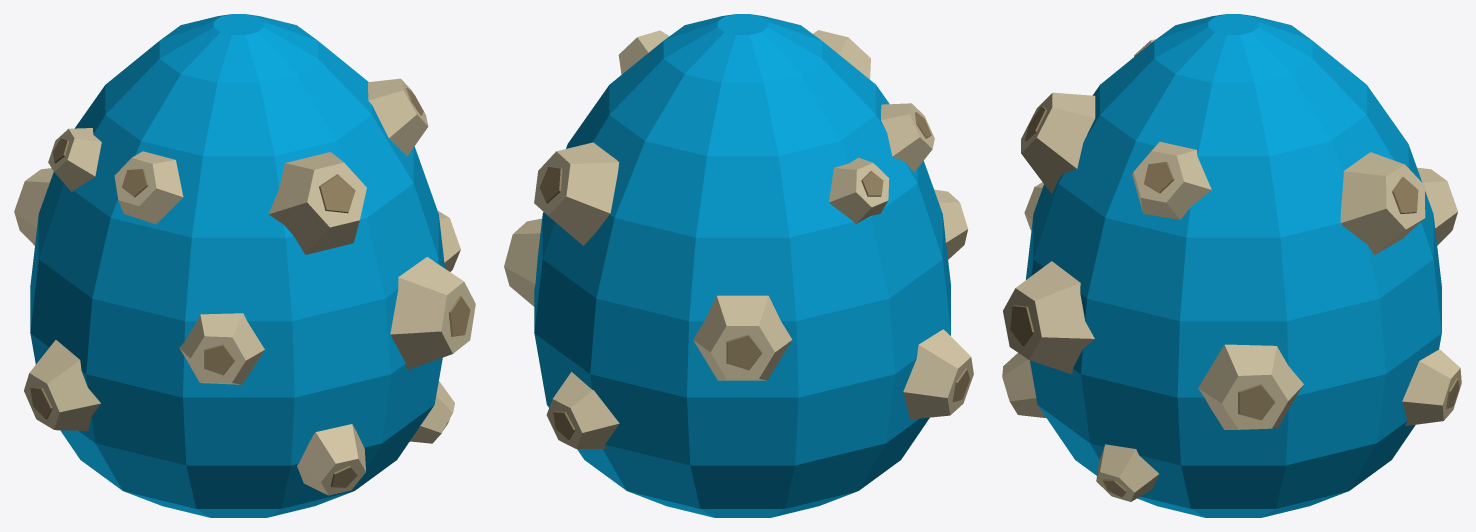
File: OceanBarnacle.fbx
The picture shows the model from 3 angles, left to right: view 1: azimuth 30°, elevation 25°; view 2: azimuth 150°, elevation 25°; view 3: azimuth 270°, elevation 25°; orthographic projection.
Visible parts, largest first — view 1: Body; view 2: Body; view 3: Body.
Part boxes in pixels (left/top/right/bottom): Body: left=14, top=14, right=475, bottom=517; Body: left=504, top=14, right=973, bottom=517; Body: left=1002, top=14, right=1461, bottom=517.
Bounding box in the file's own units: 5.52 × 5.52 × 5.11.
